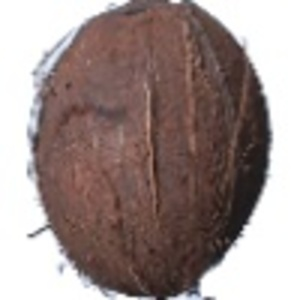coco: (27, 1, 274, 300)
